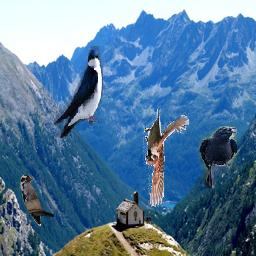Crow: (199, 126, 237, 188)
Sparrow: (143, 105, 189, 207)
Swallow: (55, 46, 104, 138)
Woodpecker: (20, 174, 54, 226)
